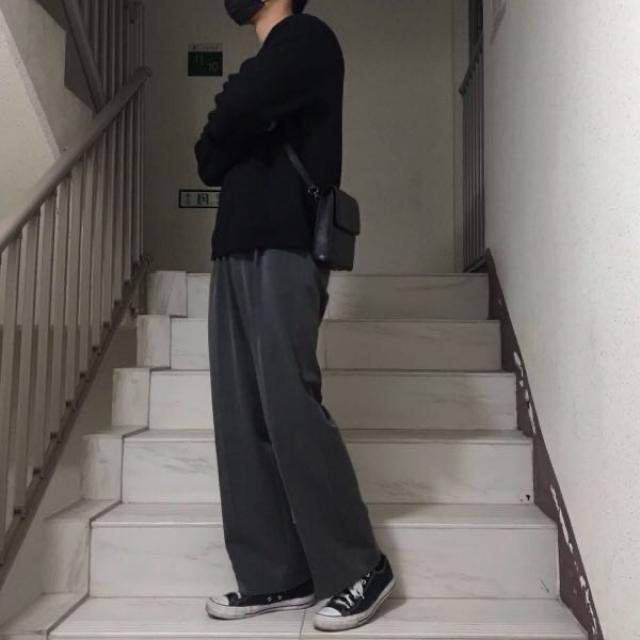longsleeve: (195, 10, 344, 256)
slacks: (207, 247, 388, 599)
